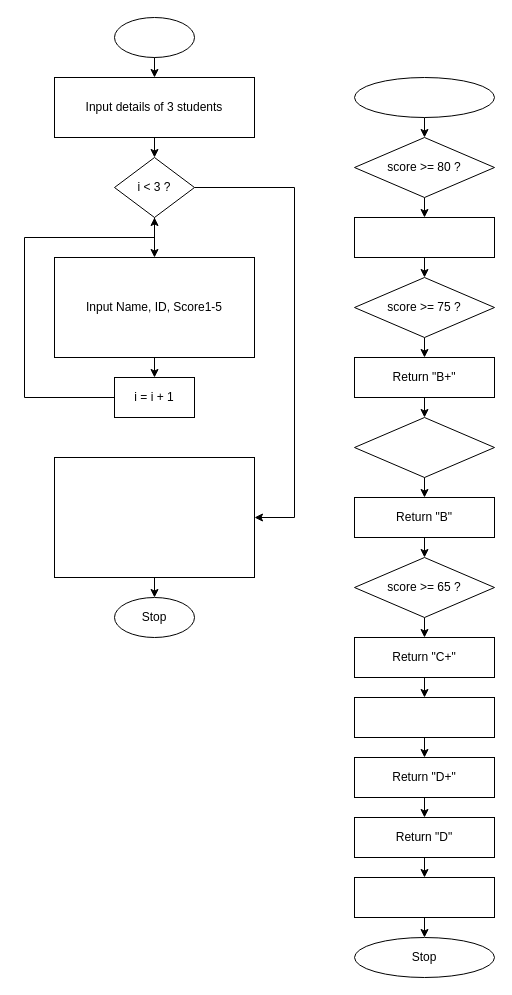
This 512x995 diagram has some shape labels left out. The box of each missing label's shape, as (x1, y1, x2, y2) in pixels:
Display student info and average: (54, 456, 254, 578)
Return "A": (354, 216, 494, 258)
Return "C": (354, 696, 494, 738)
Return "F": (354, 876, 494, 918)
score >= 70 ?: (354, 416, 494, 478)
Start: (114, 16, 194, 58)
Start getGradeText(score): (354, 76, 494, 118)
